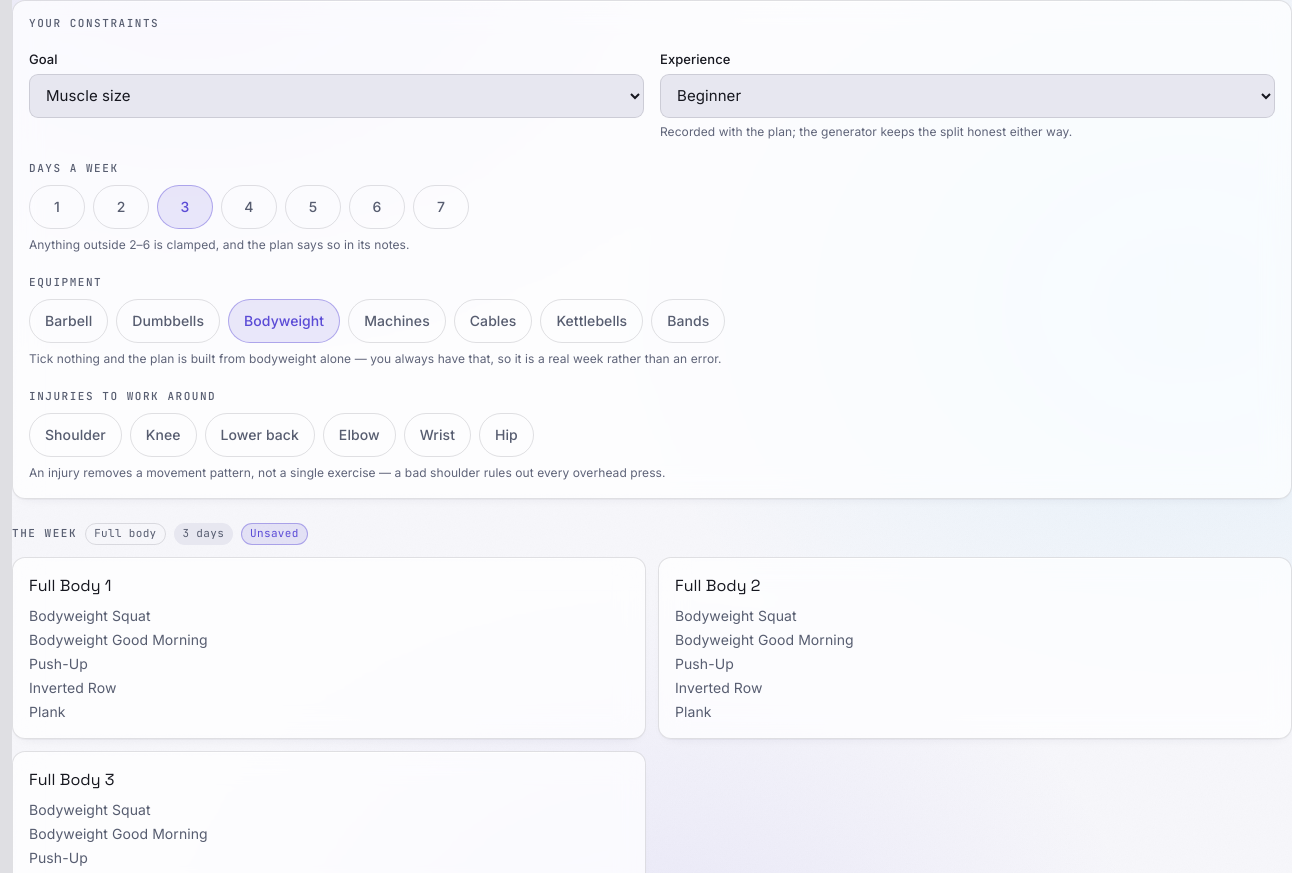
Test: PlanEditor › removes a whole movement pattern for an injury, not just one named exercise
Click the button with test id "train-equipment-barbell" at [69, 321], box [29,299,108,343]
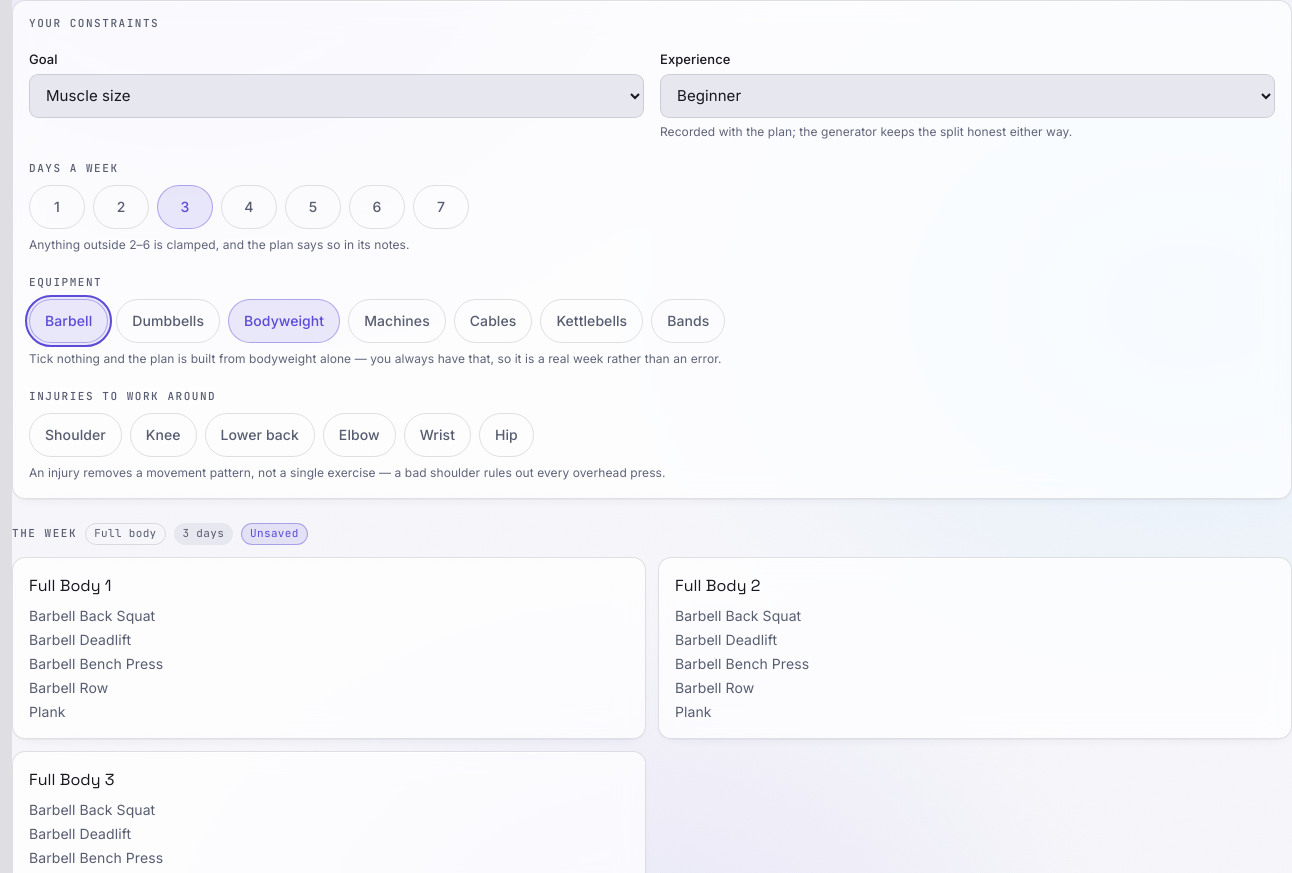
Click the button with test id "train-days-5" at [313, 208], box [285,186,341,230]
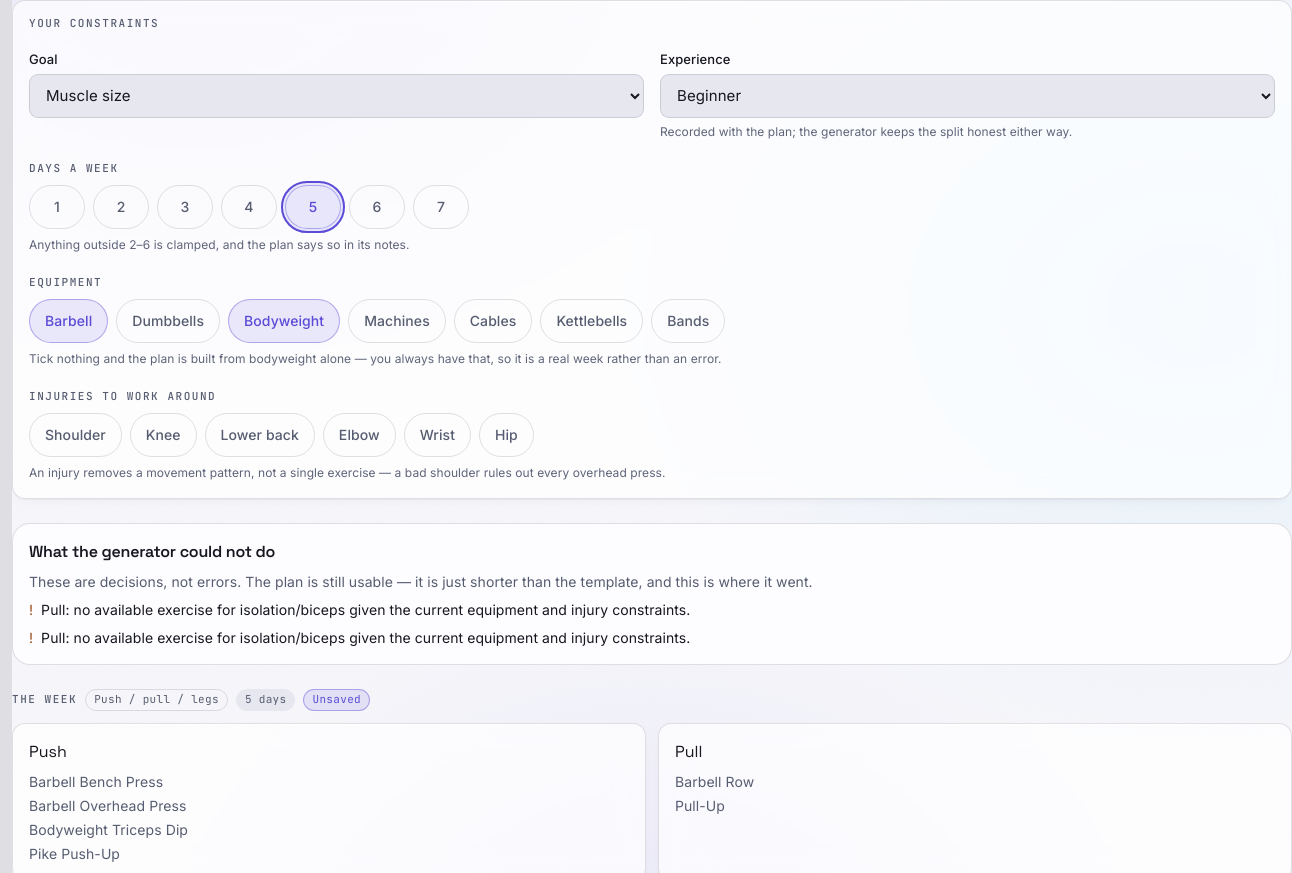
Check: the list with test id "train-plan-days" shows "Barbell Overhead Press", box [29,797,186,814]
Click the button with test id "train-injury-shoulder" at [75, 435], box [29,413,122,457]
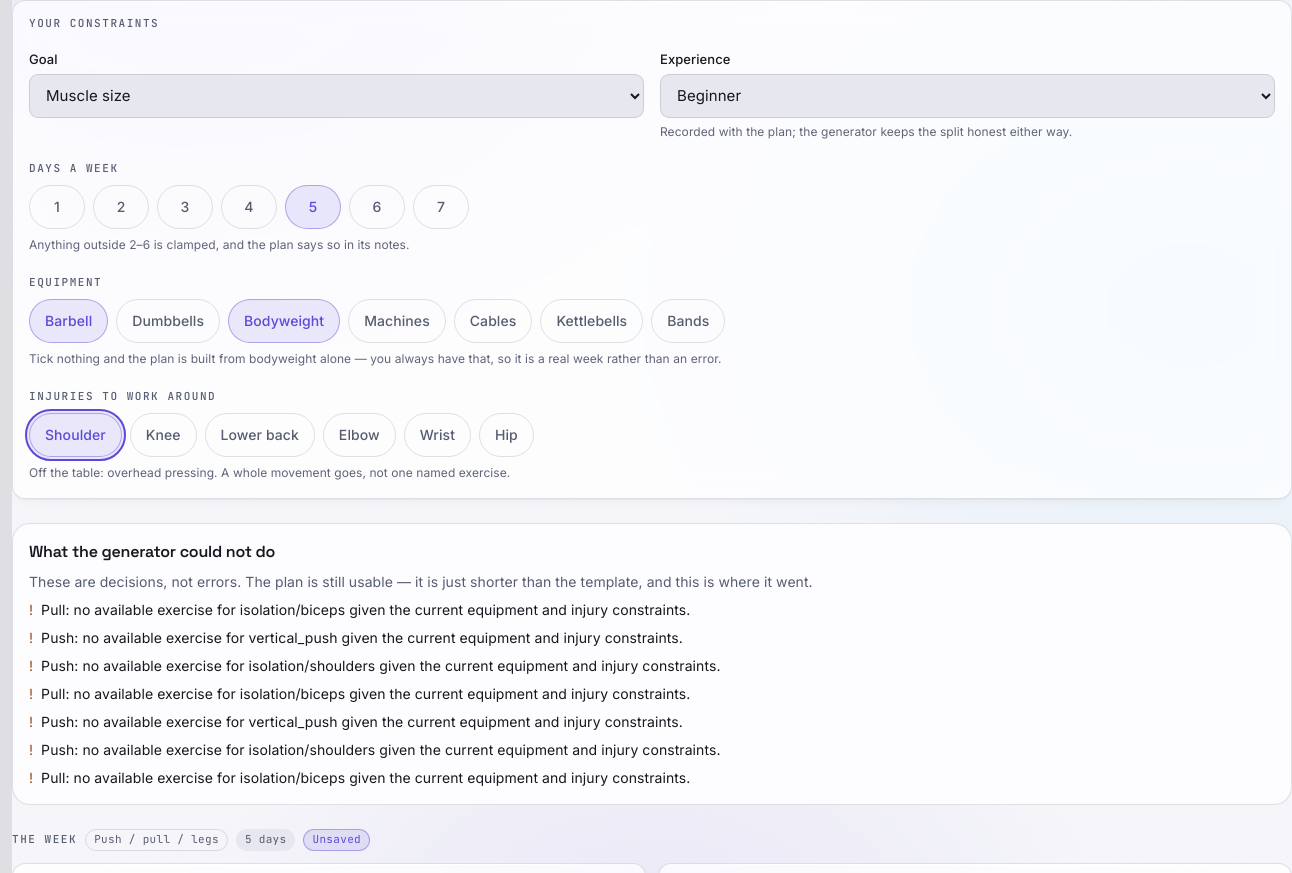
Check: the list item with test id "train-plan-days" no longer shows "Barbell Overhead Press"
Check: the list item with test id "train-plan-days" no longer shows "Pike Push-Up"
Check: the text "Off the table: overhead pressing" is shown, box [29,465,510,480]
